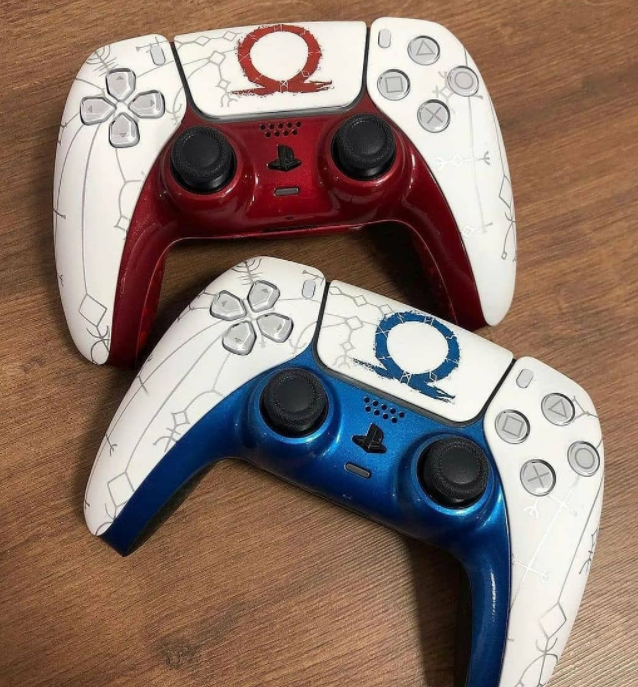gamingconsole: (87, 256, 604, 687), (53, 23, 515, 335)
